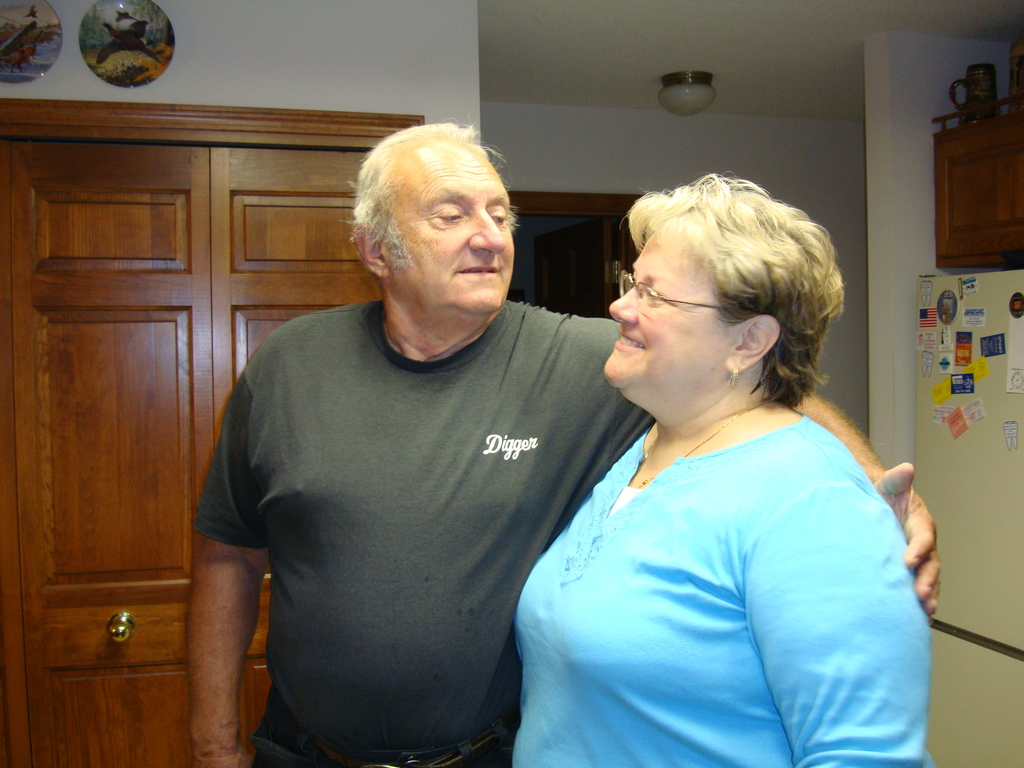Human-face: (379, 138, 512, 308), (608, 232, 727, 397)
